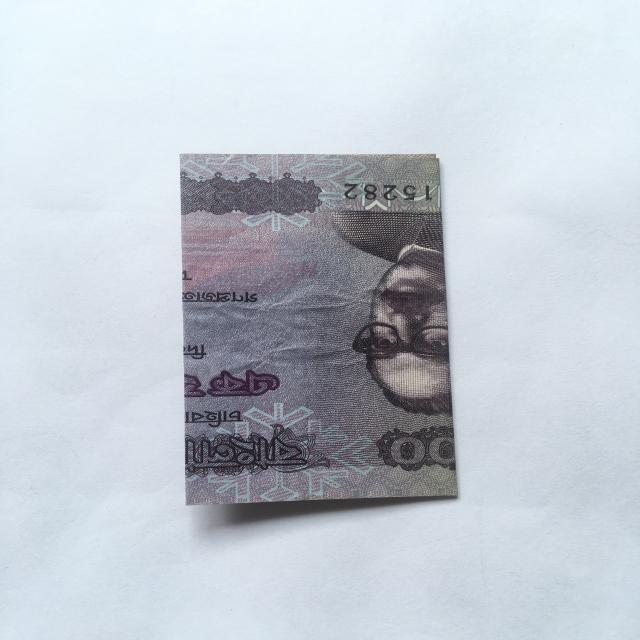Taka: (172, 150, 468, 509)
